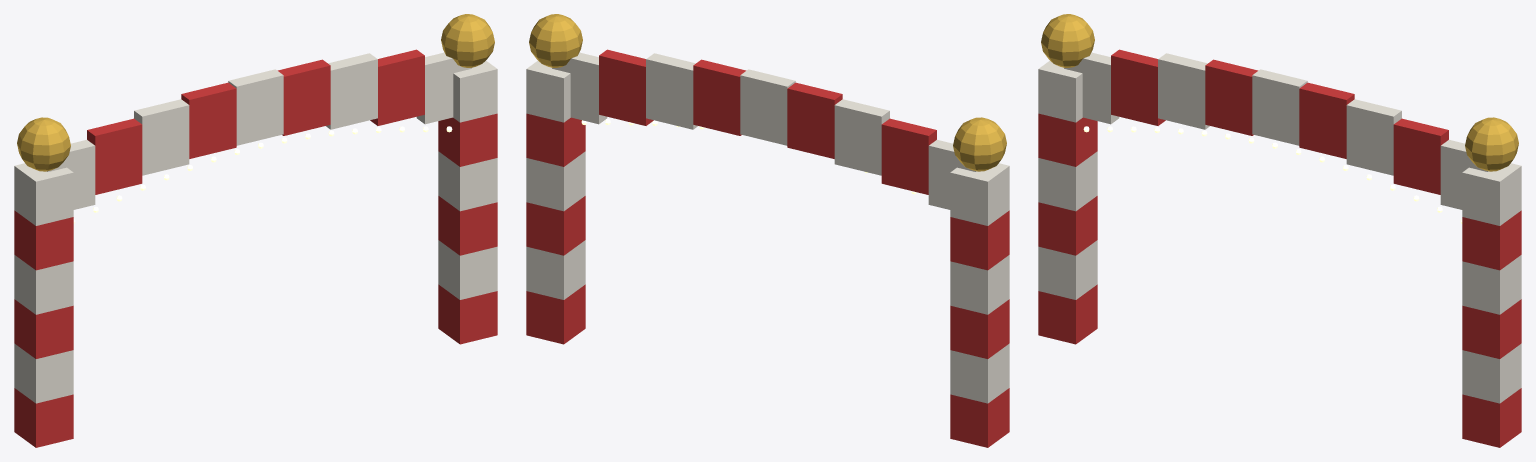
The model's file is fair_arch.glb.
The picture shows the model from 3 angles, left to right: view 1: azimuth 30°, elevation 25°; view 2: azimuth 150°, elevation 25°; view 3: azimuth 330°, elevation 25°; orthographic projection.
Visible parts, largest first — view 1: towers_fair_white, towers_fair_red, beam_fair_white, beam_fair_red, towers_fair_gold, bulbs_fair_bulb; view 2: towers_fair_white, towers_fair_red, beam_fair_white, beam_fair_red, towers_fair_gold; view 3: towers_fair_white, towers_fair_red, beam_fair_white, beam_fair_red, towers_fair_gold, bulbs_fair_bulb.
Boxes of the visible parts, <box> form: towers_fair_white: <box>14,61,497,403</box>; towers_fair_red: <box>14,113,497,447</box>; beam_fair_white: <box>47,52,471,209</box>; beam_fair_red: <box>87,49,424,194</box>; towers_fair_gold: <box>17,14,494,171</box>; bulbs_fair_bulb: <box>73,126,452,223</box>; towers_fair_white: <box>526,61,1009,403</box>; towers_fair_red: <box>526,113,1009,447</box>; beam_fair_white: <box>552,52,976,209</box>; beam_fair_red: <box>599,49,936,194</box>; towers_fair_gold: <box>529,14,1006,171</box>; towers_fair_white: <box>1038,61,1521,403</box>; towers_fair_red: <box>1038,113,1521,447</box>; beam_fair_white: <box>1064,52,1488,209</box>; beam_fair_red: <box>1111,49,1448,194</box>; towers_fair_gold: <box>1041,14,1518,171</box>; bulbs_fair_bulb: <box>1083,126,1462,223</box>.
Size of the model in its own units: 10 by 6.4 by 0.9511.
